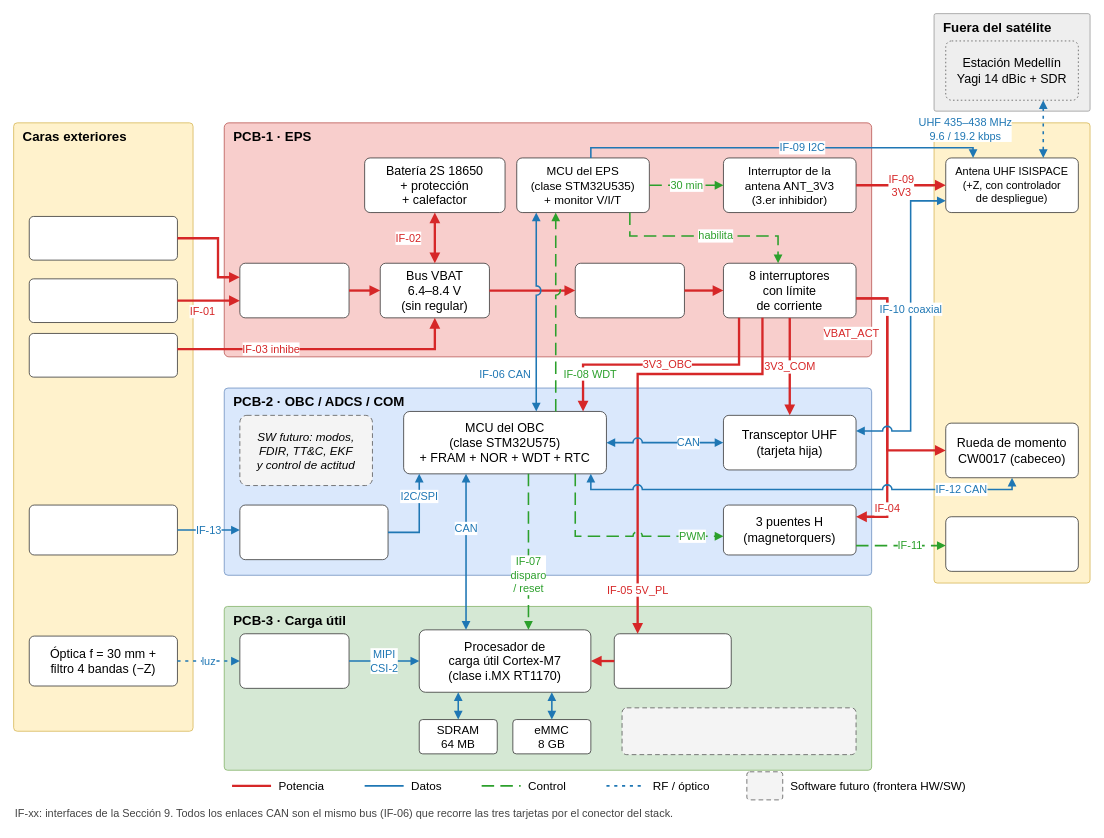
This 1104x838 diagram has some shape labels left out. The shapes that lost their labels are listed below. From the top down, each one's centre as x and y in pixels, then its label:
At (x=102, y=238): "Paneles ±X (2 celdas TJ c/u)".
At (x=102, y=300): "Paneles ±Y (2 celdas TJ c/u)".
At (x=294, y=290): "2 cargadores MPPT buck-boost".
At (x=629, y=290): "Buck 3.3 V y 5 V".
At (x=102, y=355): "2 kill switches (estructura) + RBF".
At (x=102, y=529): "6 sensores de sol + termistores".
At (x=313, y=532): "Magnetómetro RM3100 giróscopo ISM330DHCX + ADC de sol".
At (x=1011, y=543): "3 magnetorquers (clase MT01)".
At (x=294, y=660): "Sensor CMOS 5 MP mono NIR (clase AR0522)".
At (x=672, y=660): "POL locales 3.3 / 1.8 / 1.x V".
At (x=738, y=731): "SW futuro: captura, ROI, compresión y archivo".
